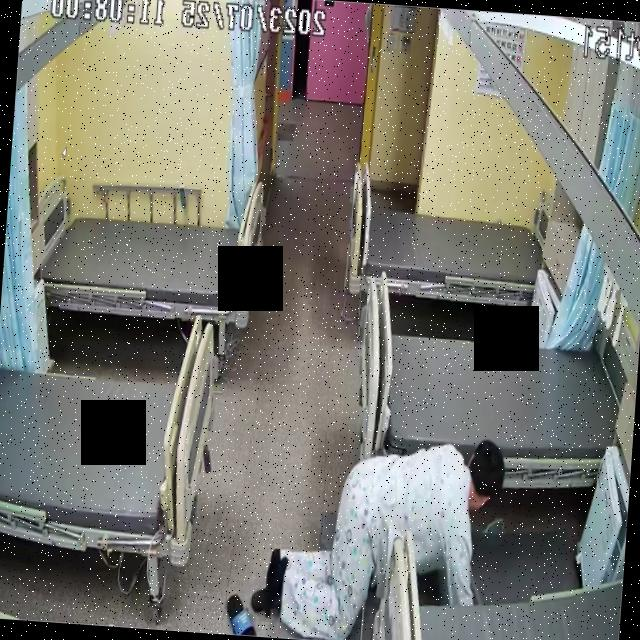bed: (0, 301, 220, 561), (352, 321, 625, 491), (23, 192, 266, 328), (348, 194, 543, 306)
fall: (249, 416, 512, 640)
patient: (251, 415, 512, 640)
